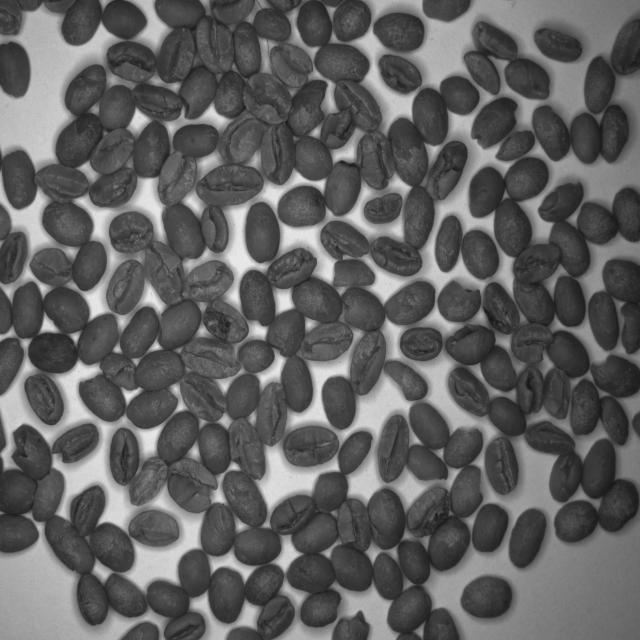bad: (194, 163, 266, 211), (166, 456, 218, 517), (347, 326, 388, 400), (242, 68, 293, 127), (178, 334, 242, 380), (142, 238, 185, 306), (160, 201, 206, 264), (333, 77, 384, 133), (54, 111, 103, 169), (426, 138, 468, 205), (225, 417, 268, 482), (469, 94, 519, 149), (178, 370, 228, 424), (367, 486, 408, 551), (406, 481, 451, 540), (375, 412, 411, 485), (355, 128, 397, 190), (281, 424, 340, 468), (216, 111, 264, 164), (193, 14, 234, 76), (60, 62, 107, 116), (156, 296, 202, 351), (512, 276, 556, 333), (286, 77, 327, 138), (589, 351, 640, 400), (79, 372, 127, 424), (156, 24, 196, 86), (11, 420, 52, 480), (134, 116, 171, 182), (104, 258, 146, 316), (484, 434, 522, 498), (21, 372, 66, 426), (34, 162, 89, 206), (369, 233, 424, 277), (300, 320, 355, 364), (263, 245, 319, 288), (318, 220, 370, 266), (104, 40, 157, 85), (444, 321, 497, 366), (49, 422, 102, 467), (260, 121, 296, 187), (340, 283, 387, 333), (203, 298, 250, 348), (256, 377, 289, 448), (156, 150, 197, 207), (447, 366, 490, 420), (481, 279, 521, 337), (324, 158, 362, 219), (126, 386, 179, 429), (130, 82, 184, 124), (239, 268, 276, 329), (536, 178, 586, 223), (265, 307, 306, 361), (581, 54, 617, 115), (128, 455, 169, 508), (382, 358, 429, 404), (91, 126, 135, 175), (502, 58, 552, 101), (511, 242, 561, 285), (337, 498, 374, 556), (280, 352, 314, 415), (180, 64, 218, 120), (436, 277, 482, 323), (374, 51, 422, 95), (185, 258, 233, 302), (524, 418, 576, 458), (472, 19, 518, 64), (108, 210, 155, 254), (442, 424, 486, 471), (270, 492, 317, 536), (128, 508, 181, 547), (88, 168, 138, 209), (108, 426, 141, 488), (28, 242, 72, 288), (70, 483, 107, 537), (532, 27, 584, 65), (609, 15, 640, 78), (398, 324, 444, 366), (31, 466, 66, 521), (510, 324, 555, 366), (548, 450, 584, 502), (449, 464, 485, 516), (554, 272, 586, 330), (406, 443, 450, 485), (462, 50, 501, 97), (256, 595, 296, 640), (299, 589, 341, 629), (198, 201, 229, 254), (100, 351, 140, 391), (0, 229, 28, 286), (542, 364, 570, 421), (0, 333, 24, 399), (515, 362, 545, 414), (331, 259, 376, 290), (329, 607, 371, 640), (322, 110, 356, 150), (495, 129, 536, 162), (363, 193, 402, 227), (619, 300, 640, 356), (0, 0, 24, 37)
good: (44, 513, 95, 577), (386, 115, 429, 188), (222, 466, 268, 529), (508, 504, 550, 572), (291, 275, 344, 327), (426, 514, 473, 572), (548, 217, 592, 278), (597, 471, 640, 533), (40, 283, 90, 336), (314, 40, 371, 86), (385, 582, 434, 634), (41, 200, 94, 248), (285, 548, 338, 596), (370, 8, 425, 54), (493, 196, 533, 259), (383, 279, 437, 325), (410, 85, 450, 147), (156, 409, 200, 465), (89, 520, 136, 572), (245, 198, 281, 265), (0, 147, 38, 210), (208, 564, 246, 627), (461, 573, 514, 618), (580, 435, 616, 500), (27, 330, 79, 375), (547, 327, 591, 380), (406, 399, 450, 452), (76, 312, 119, 366), (276, 182, 326, 228), (290, 512, 340, 558), (119, 305, 160, 360), (265, 40, 314, 86), (554, 496, 598, 547), (460, 226, 500, 282), (471, 501, 511, 557), (0, 37, 34, 102), (532, 104, 570, 162), (500, 158, 550, 202), (331, 543, 374, 594), (321, 373, 358, 432), (479, 340, 519, 394), (232, 524, 282, 567), (134, 349, 186, 390), (200, 500, 236, 559), (104, 570, 148, 618), (586, 289, 620, 351), (291, 132, 333, 182), (10, 279, 44, 340), (575, 199, 619, 246), (467, 165, 506, 218), (431, 210, 463, 274), (404, 183, 435, 249), (145, 576, 191, 620), (59, 0, 101, 48), (599, 101, 630, 166), (569, 376, 602, 437), (170, 122, 220, 162), (176, 544, 212, 599), (244, 561, 286, 608), (100, 0, 148, 41), (71, 238, 108, 291), (336, 428, 375, 478), (438, 73, 481, 117), (597, 394, 632, 448), (100, 81, 136, 133), (601, 256, 640, 304), (0, 510, 39, 558), (296, 0, 332, 51), (610, 184, 640, 244), (76, 570, 108, 626), (153, 0, 207, 33), (198, 420, 231, 474), (233, 19, 262, 80), (212, 68, 246, 120), (332, 0, 372, 44), (568, 109, 600, 164), (397, 538, 433, 586), (1, 466, 36, 515), (489, 393, 527, 438), (312, 469, 349, 515), (226, 372, 260, 421), (372, 551, 404, 602), (238, 338, 276, 377), (421, 605, 462, 640), (253, 8, 291, 42), (164, 611, 208, 640), (422, 0, 472, 25), (207, 0, 257, 24), (117, 619, 159, 640)
